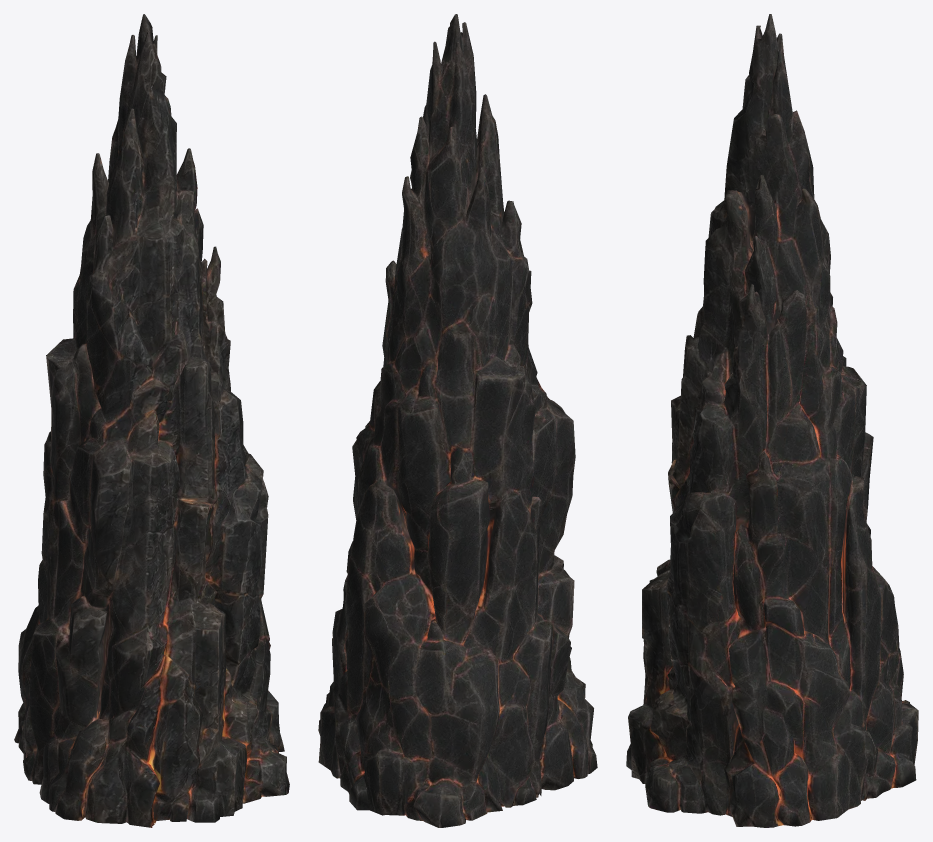
File: prop_volcanic_spire.glb
The picture shows the model from 3 angles, left to right: view 1: azimuth 30°, elevation 25°; view 2: azimuth 150°, elevation 25°; view 3: azimuth 270°, elevation 25°; orthographic projection.
Bounding box in the file's own units: 0.3208 × 0.9526 × 0.3355.
1 material, 1 textured.
